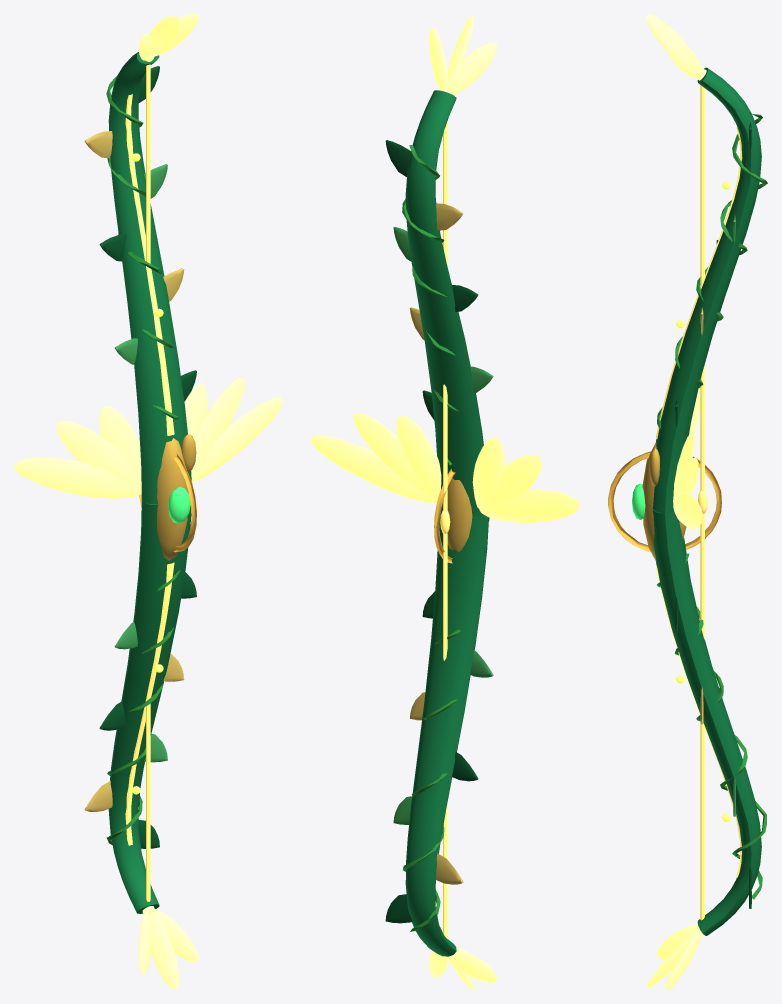
The model's file is archer_bow.glb.
3 renders of one model, left to right at view 1: azimuth 30°, elevation 25°; view 2: azimuth 150°, elevation 25°; view 3: azimuth 270°, elevation 25°, orthographic.
Visible parts, largest first — view 1: Divine_bow; view 2: Divine_bow; view 3: Divine_bow.
Boxes of the visible parts, x1,y1,x2,y2 form: Divine_bow: (14, 14, 282, 989); Divine_bow: (311, 14, 579, 989); Divine_bow: (608, 14, 767, 989).
Bounding box in the file's own units: 0.4286 × 1.48 × 0.2208.
